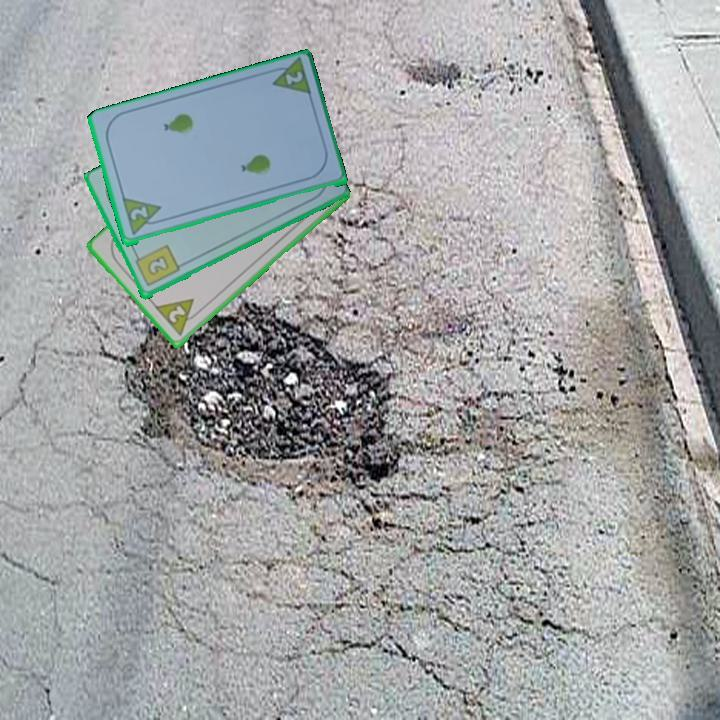2b: (131, 242, 182, 290)
2p: (152, 295, 205, 339), (126, 203, 150, 224), (281, 68, 306, 88)
